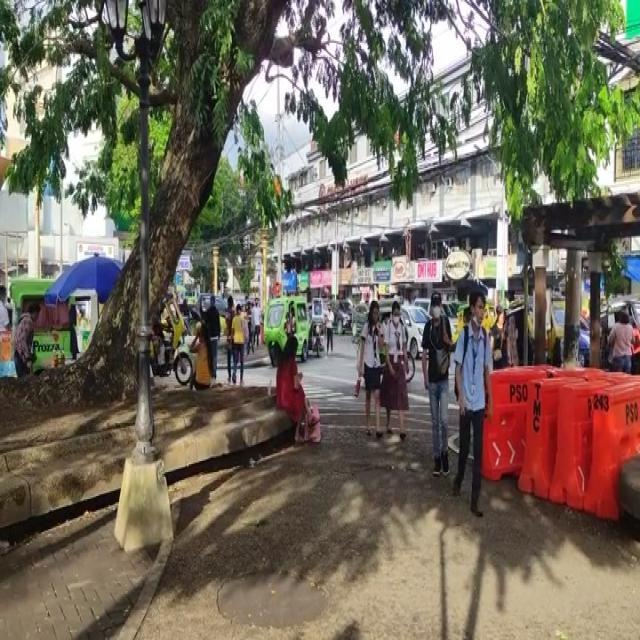hairnet: (470, 298, 485, 328)
